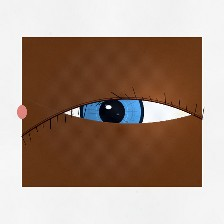pinguecula_lesion: (155, 94, 199, 128)
